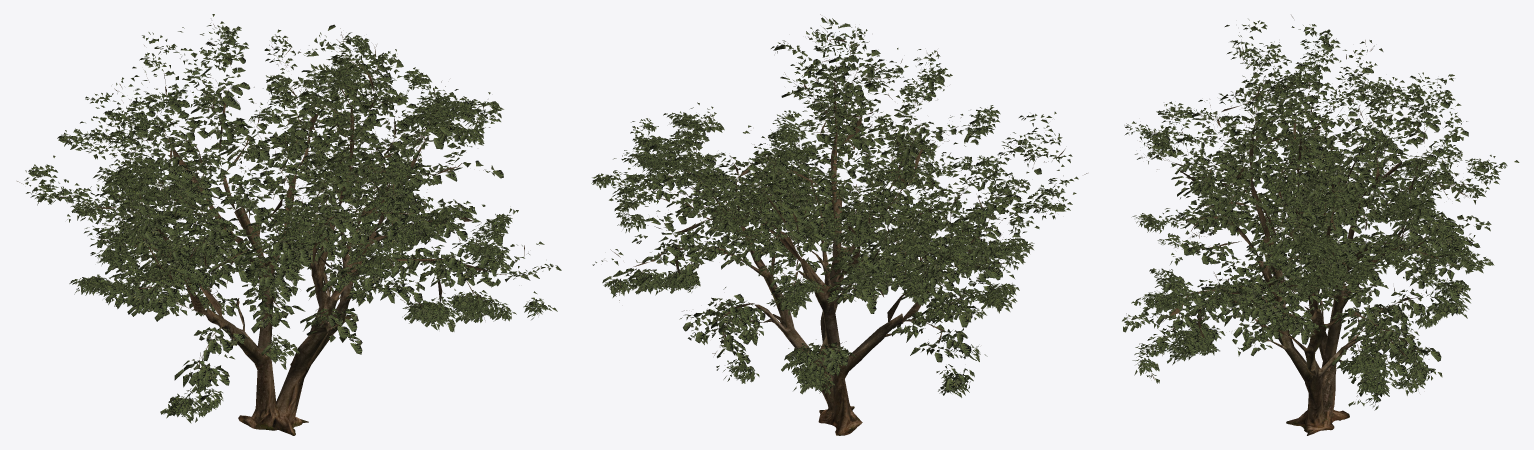
Rendered from model_tree_blossom.glb.
3 renders of one model, left to right at view 1: azimuth 30°, elevation 25°; view 2: azimuth 150°, elevation 25°; view 3: azimuth 270°, elevation 25°, orthographic. The views are drawn at different scales.
Visible parts, largest first — view 1: jacaranda_tree_LOD0; view 2: jacaranda_tree_LOD0; view 3: jacaranda_tree_LOD0.
Boxes of the visible parts, x1,y1,x2,y2 form: jacaranda_tree_LOD0: [17, 14, 561, 435]; jacaranda_tree_LOD0: [591, 14, 1087, 435]; jacaranda_tree_LOD0: [1122, 15, 1519, 435].
Bounding box in the file's own units: 7.48 × 6 × 5.89.
3 materials, 3 textured.
